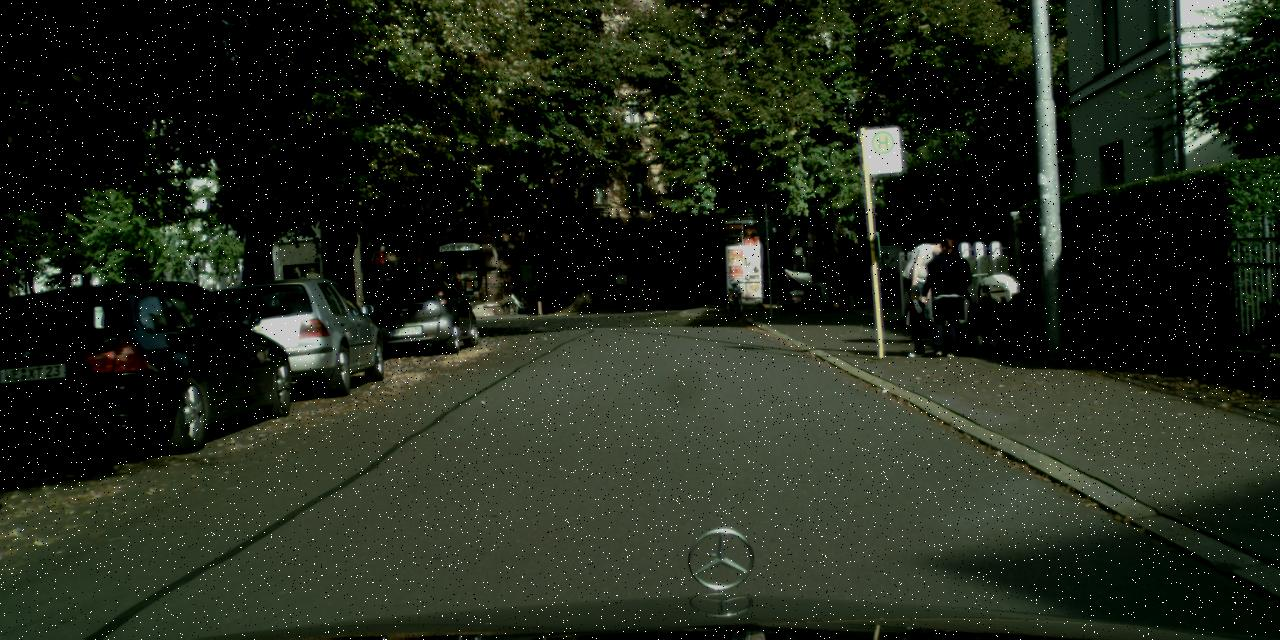ped: (921, 236, 970, 355), (916, 240, 956, 339), (900, 284, 930, 355)
